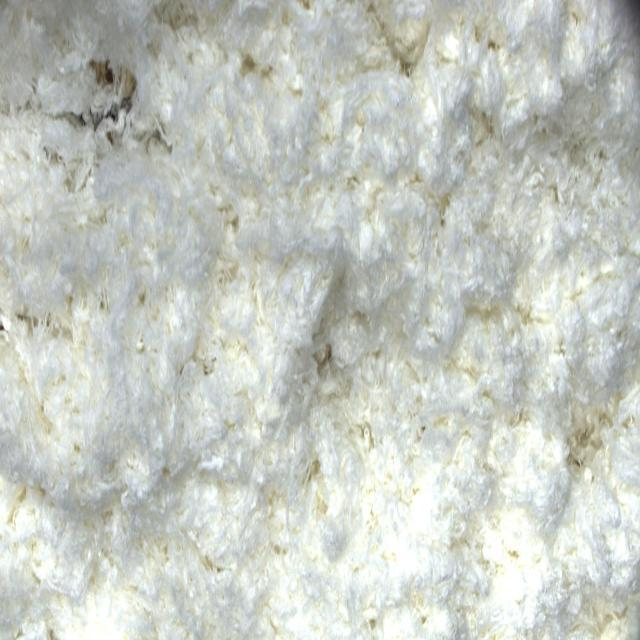dust: (88, 62, 120, 92)
